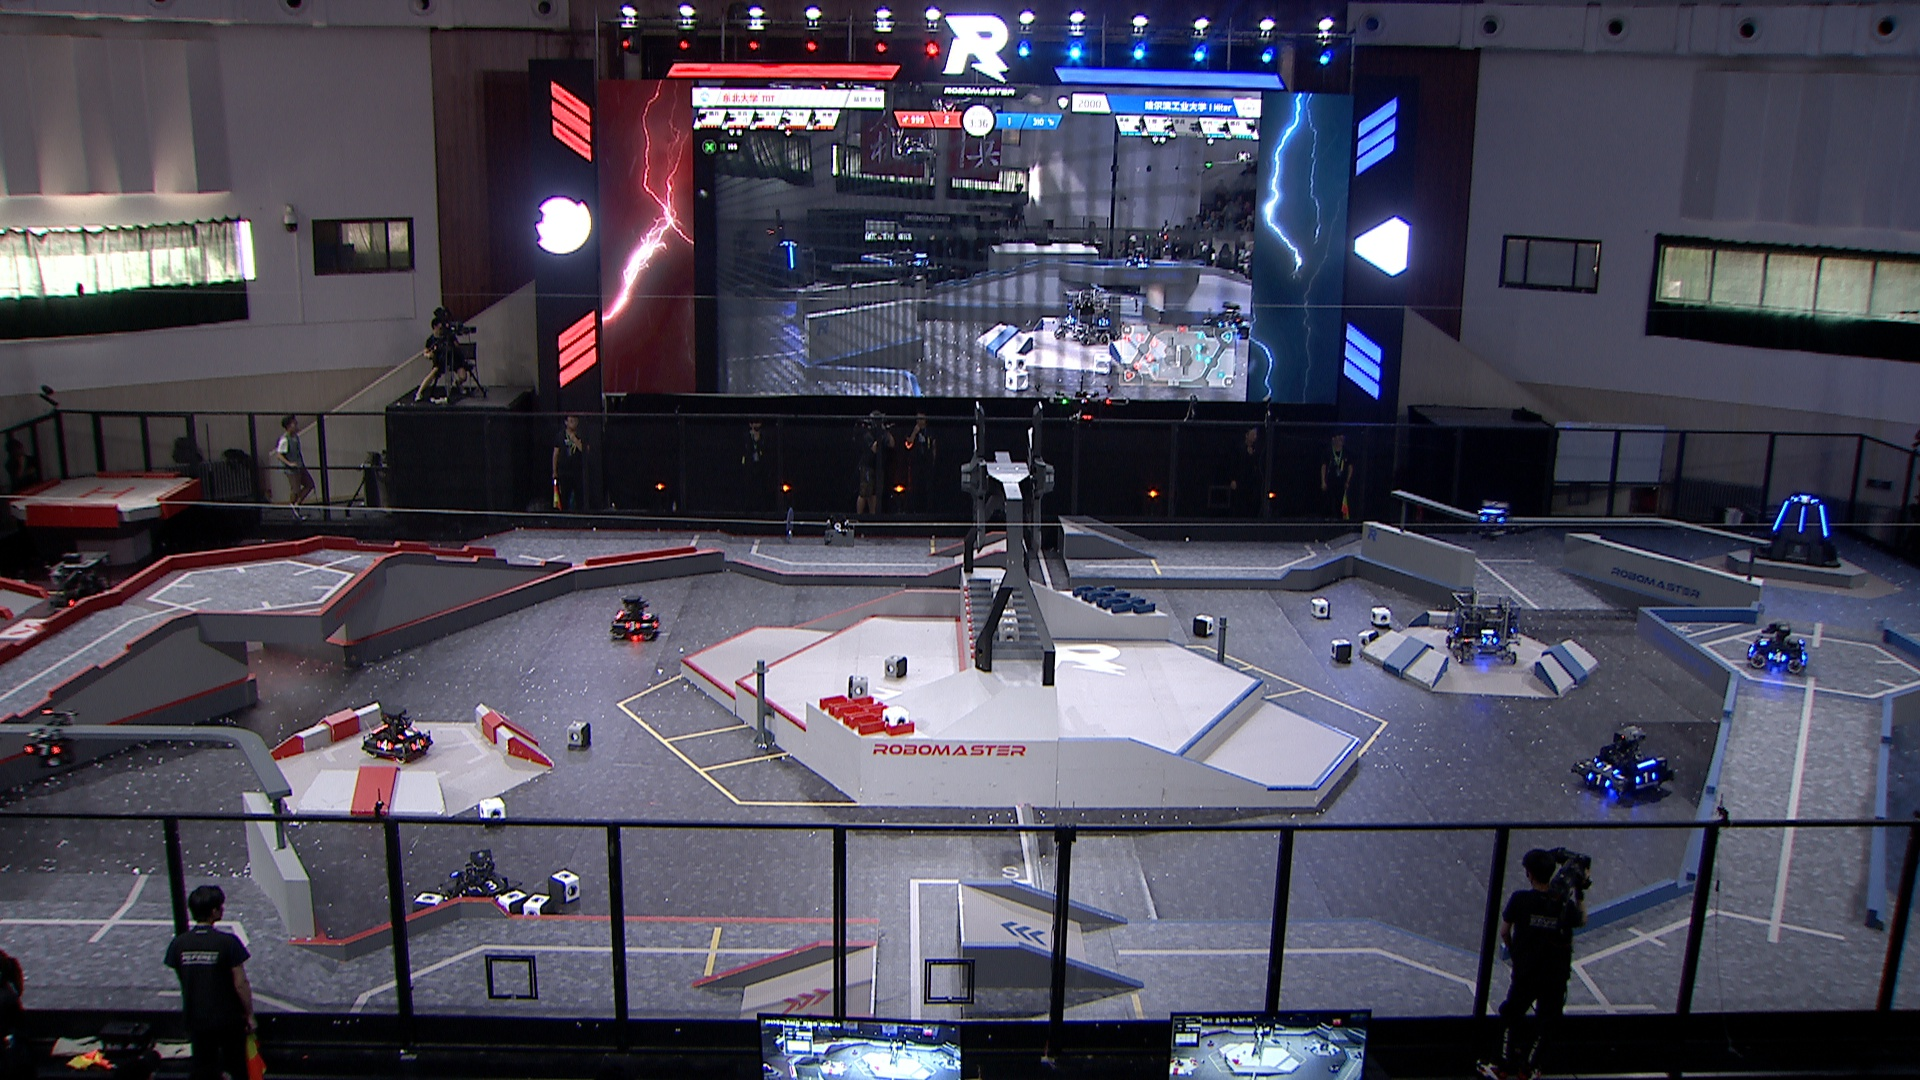armor: (1768, 498, 1789, 531), (1817, 501, 1830, 537), (479, 874, 505, 891), (24, 742, 57, 756), (1588, 769, 1609, 789), (1596, 760, 1621, 774), (1795, 502, 1807, 533), (1480, 514, 1505, 526), (622, 618, 642, 633), (398, 725, 417, 740), (376, 737, 394, 752), (1636, 771, 1656, 785), (1768, 651, 1788, 665), (1792, 493, 1813, 504), (411, 738, 427, 752), (1760, 632, 1774, 647), (1480, 633, 1495, 646), (642, 609, 655, 621), (1746, 640, 1755, 655)
base: (1751, 484, 1841, 575)
car: (1572, 719, 1679, 803), (38, 546, 135, 628), (1447, 588, 1522, 666), (443, 849, 520, 920), (357, 708, 436, 767), (1741, 617, 1809, 674), (607, 593, 662, 642)
ignore: (1055, 289, 1120, 342), (764, 237, 814, 290), (1205, 299, 1250, 339), (1120, 243, 1150, 270)
watcher: (17, 709, 83, 773), (1470, 496, 1518, 541)
